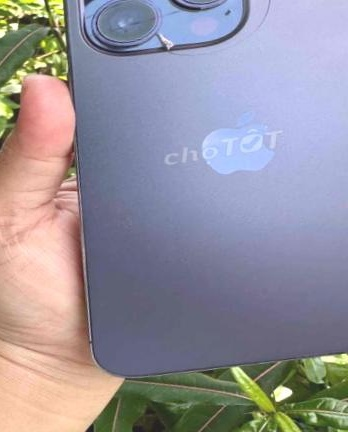scratch: (147, 26, 269, 72), (225, 0, 295, 50)
